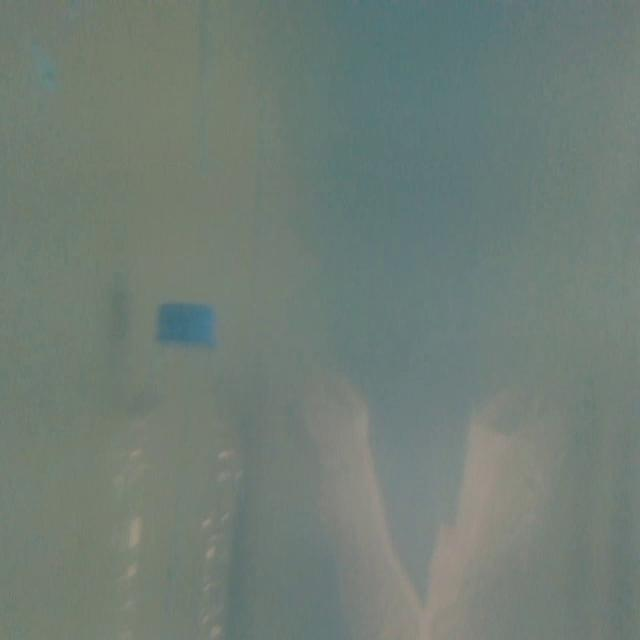plastic bags: (306, 378, 532, 640)
plastic bottle: (115, 297, 245, 640)
